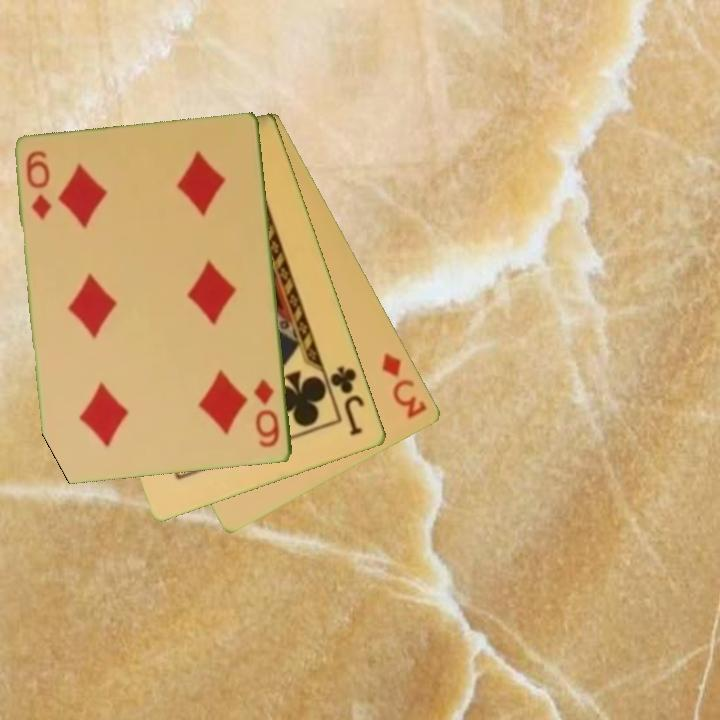3d: (378, 349, 431, 422)
6d: (251, 376, 283, 451), (23, 148, 55, 223)
Jc: (327, 363, 368, 439)
